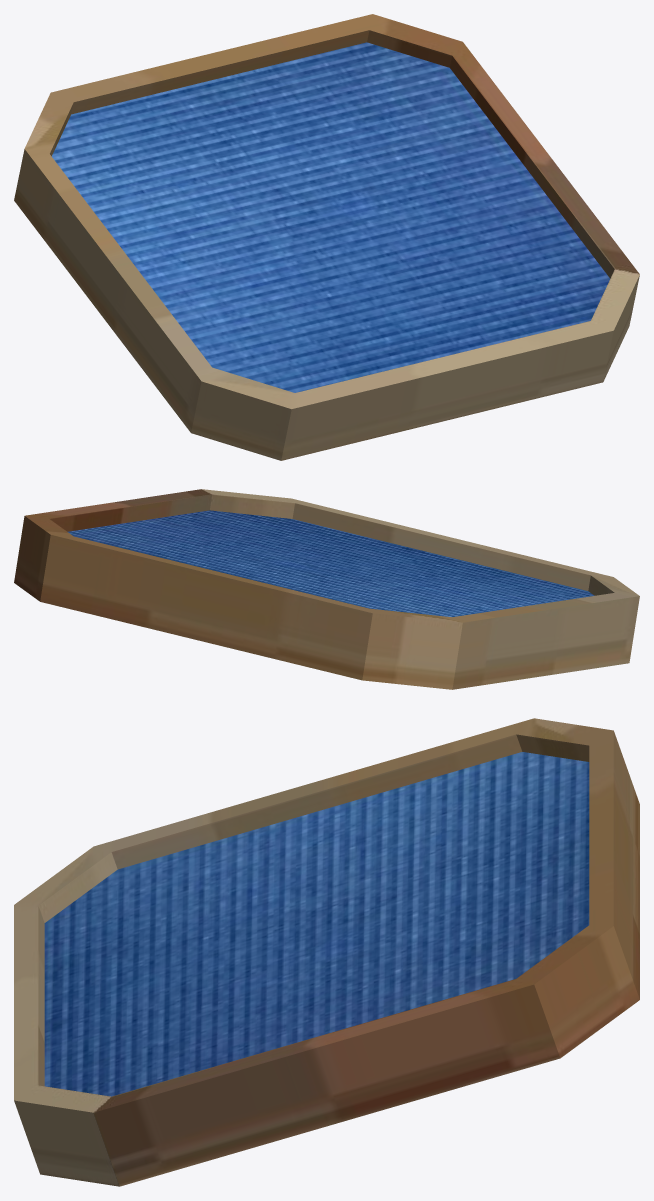
The model's file is ScreenAbilityButton.fbx.
3 renders of one model, top to bottom at view 1: azimuth 30°, elevation 25°; view 2: azimuth 150°, elevation 25°; view 3: azimuth 270°, elevation 25°, orthographic. The views are drawn at different scales.
Visible parts, largest first — view 1: Ability Display.001; view 2: Ability Display.001; view 3: Ability Display.001.
Boxes of the visible parts, x1,y1,x2,y2 form: Ability Display.001: (14, 14, 639, 460); Ability Display.001: (14, 489, 639, 689); Ability Display.001: (14, 718, 639, 1186).
Bounding box in the file's own units: 45.66 × 19.87 × 45.37.
Materials: 1 (1 with a texture image).
